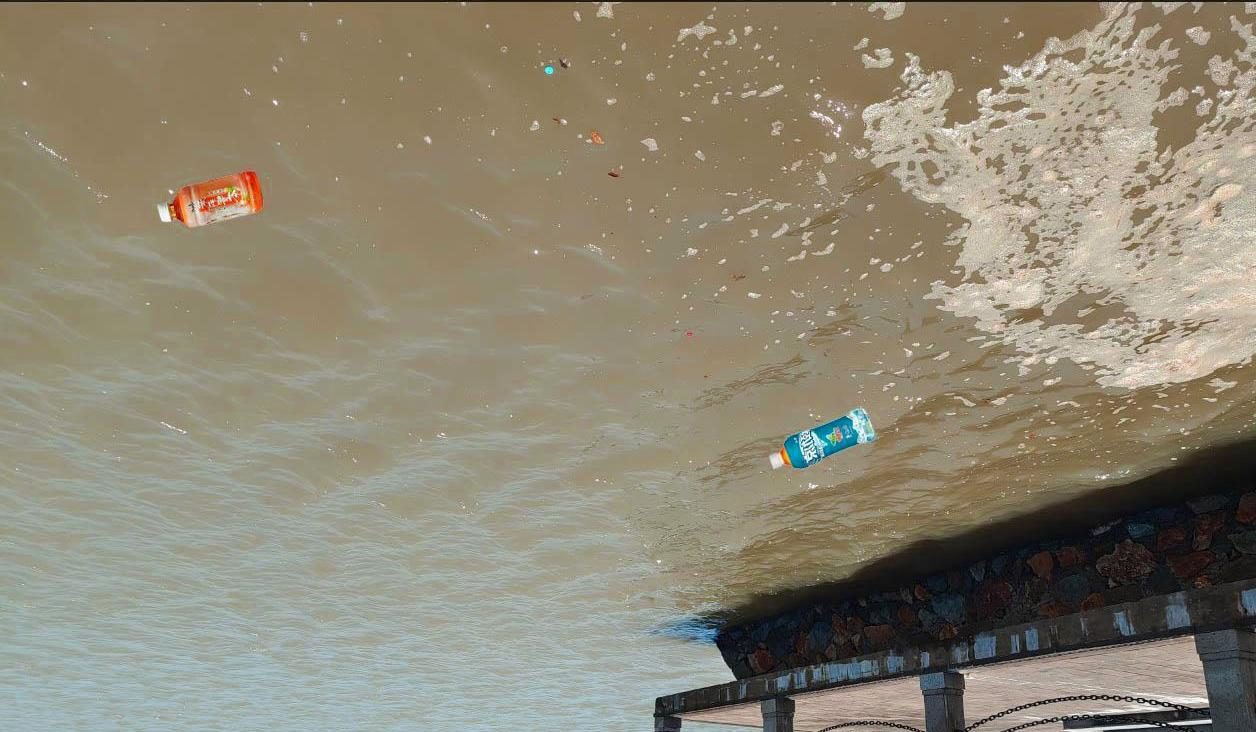Plastic: (766, 405, 879, 475), (154, 169, 268, 230)
